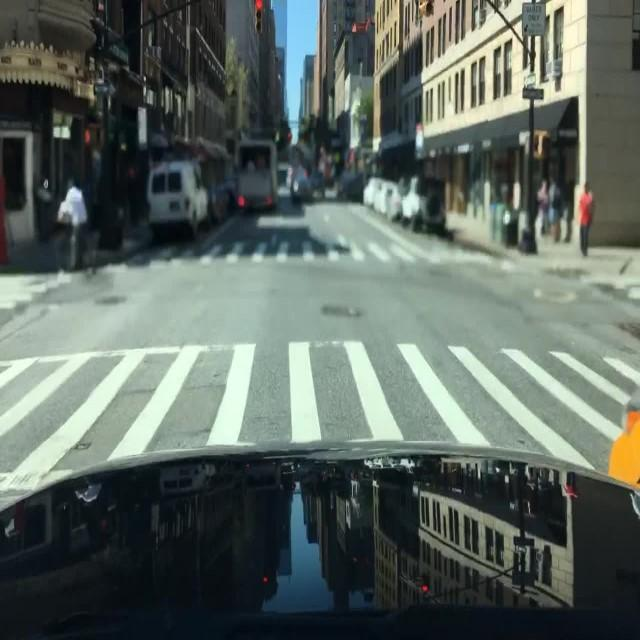normal: (133, 141, 232, 243)
